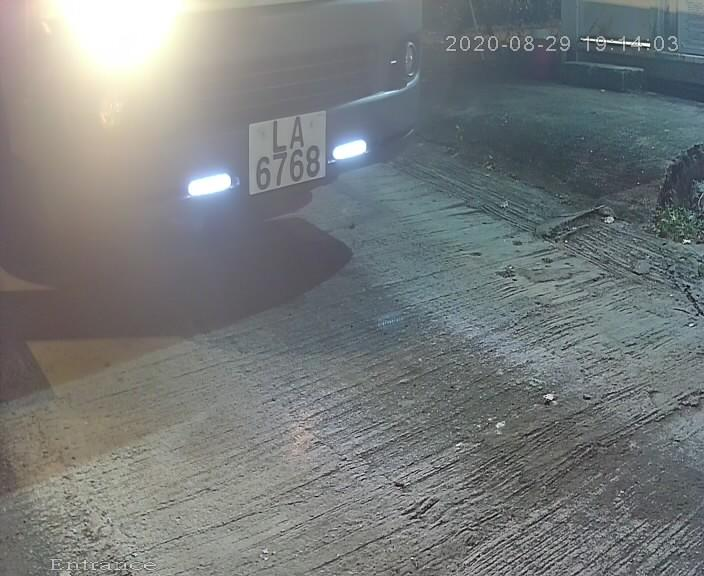License Plate: (221, 98, 353, 206)
